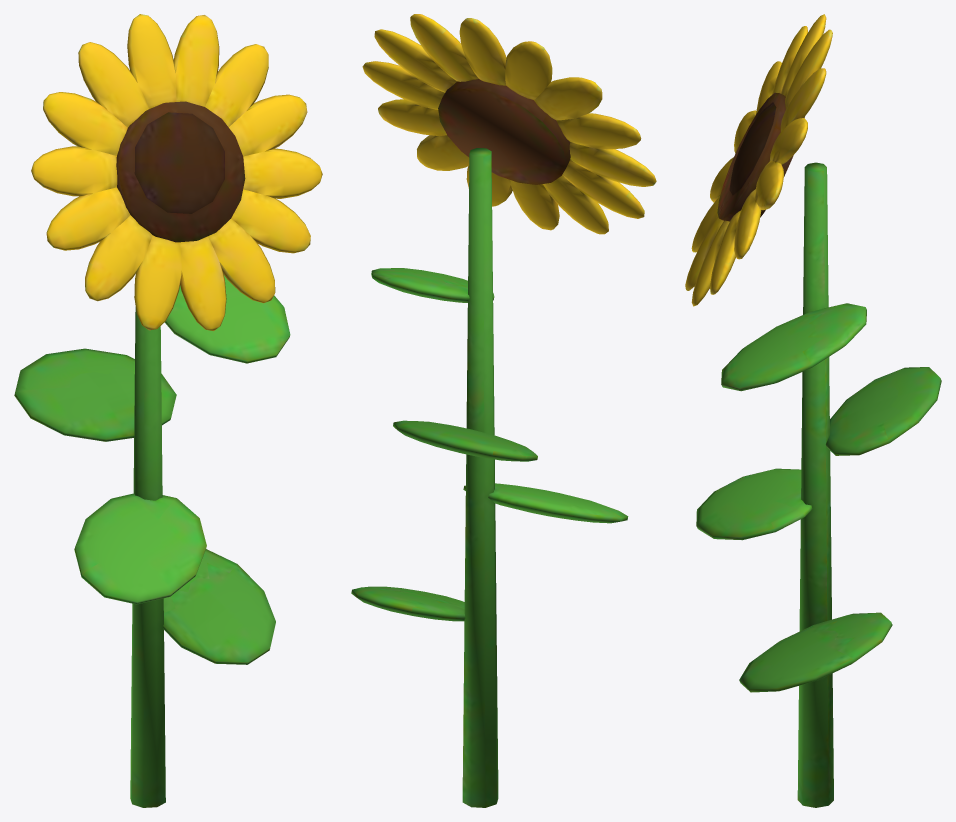
File: crop_sunflower.glb
3 views of the same model, side by side, from view 1: azimuth 30°, elevation 25°; view 2: azimuth 150°, elevation 25°; view 3: azimuth 270°, elevation 25° (orthographic). The views are drawn at different scales.
Visible parts, largest first — view 1: crop_sunflower, fruit; view 2: crop_sunflower, fruit; view 3: crop_sunflower, fruit.
Part boxes in pixels (x1,y1,x2,y2): crop_sunflower: (14,101,290,807); fruit: (31,14,322,331); crop_sunflower: (351,79,628,807); fruit: (362,14,656,234); crop_sunflower: (696,92,941,807); fruit: (685,14,832,306).
Bounding box in the file's own units: 0.2242 × 0.6079 × 0.1837.
1 material, 1 textured.
